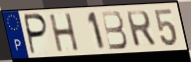1: (87, 10, 107, 51)
5: (152, 7, 179, 47)
B: (100, 10, 129, 52)
H: (48, 12, 81, 54)
P: (24, 13, 50, 57)
R: (124, 9, 158, 48)
